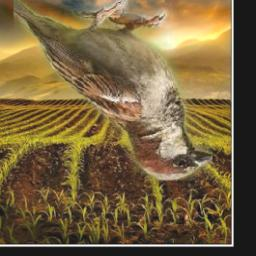Sparrow: (14, 0, 213, 181)
